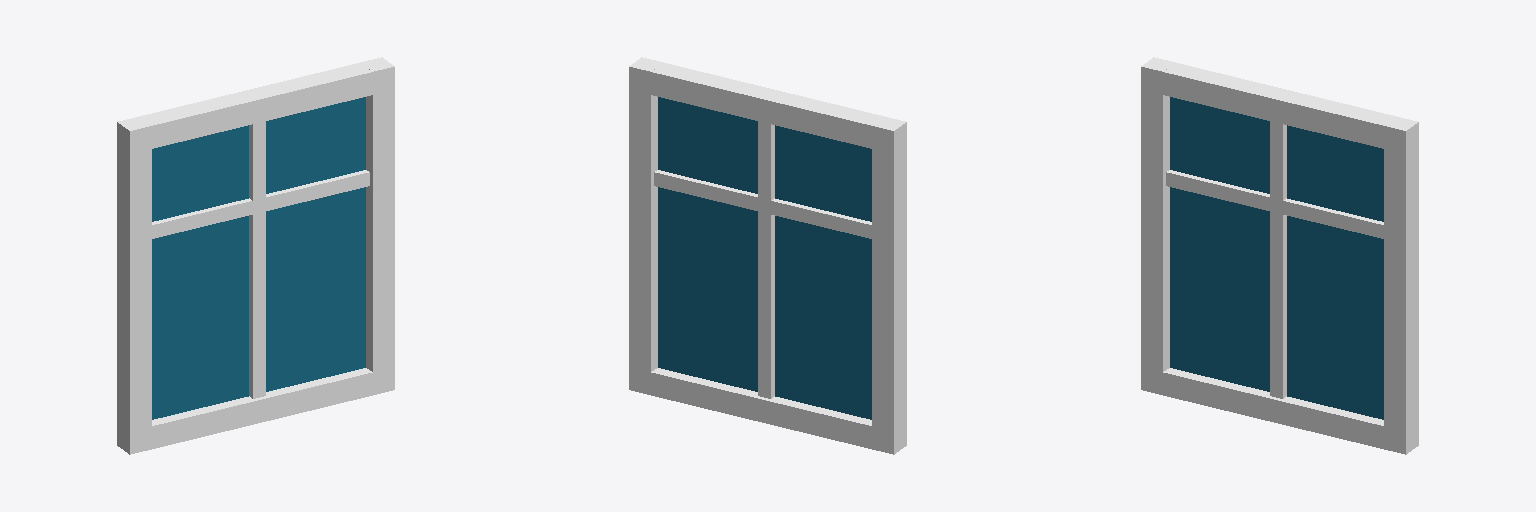
File: window.obj
The picture shows the model from 3 angles: view 1: azimuth 30°, elevation 25°; view 2: azimuth 150°, elevation 25°; view 3: azimuth 330°, elevation 25°; orthographic projection.
Visible parts, largest first — view 1: Plane, Cube.002, Cube.001, Cube.003, Cube, Cube.004, Cube.005; view 2: Plane, Cube.002, Cube.001, Cube.003, Cube, Cube.004, Cube.005; view 3: Plane, Cube.001, Cube.002, Cube.003, Cube, Cube.004, Cube.005.
Part boxes in pixels (x1,y1,x2,y2): Plane: (152, 97, 365, 419); Cube.002: (117, 117, 151, 454); Cube.001: (360, 57, 394, 394); Cube.003: (139, 63, 372, 148); Cube: (152, 368, 372, 448); Cube.004: (249, 121, 265, 398); Cube.005: (152, 170, 369, 238); Plane: (658, 97, 871, 419); Cube.002: (872, 117, 906, 454); Cube.001: (629, 57, 663, 394); Cube.003: (651, 63, 884, 148); Cube: (651, 368, 871, 448); Cube.004: (758, 121, 774, 398); Cube.005: (654, 170, 871, 238); Plane: (1170, 97, 1383, 419); Cube.001: (1384, 117, 1418, 454); Cube.002: (1141, 57, 1175, 394); Cube.003: (1163, 63, 1396, 148); Cube: (1163, 368, 1383, 448); Cube.004: (1270, 121, 1286, 398); Cube.005: (1166, 170, 1383, 238).
Size of the model in its own units: 1.68 by 1.96 by 0.1401.